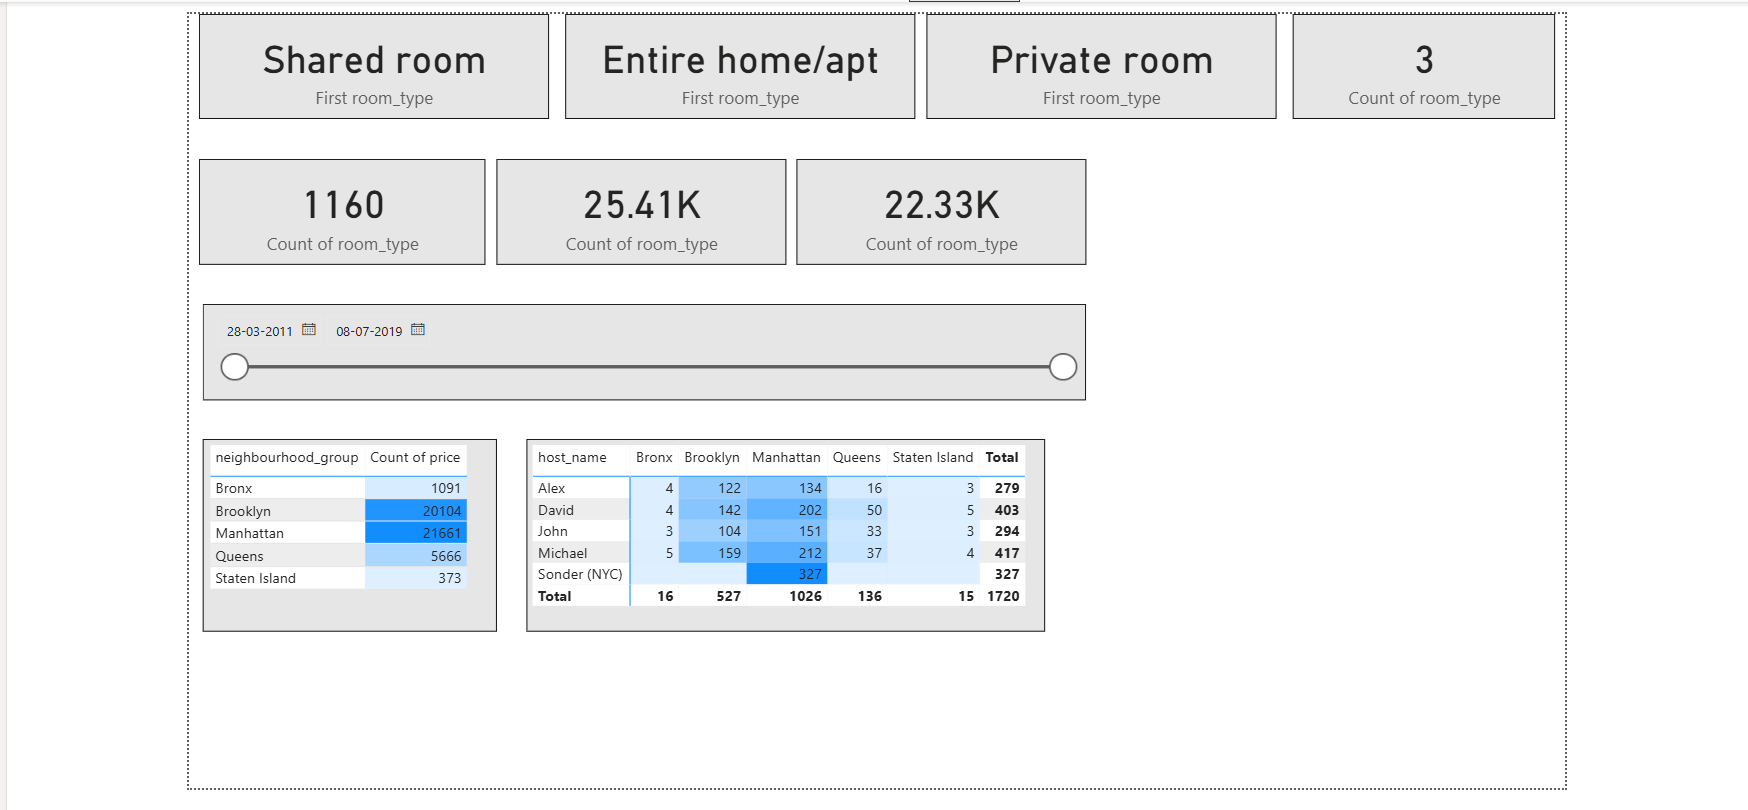

This screenshot's page, from the dashboard's own definition file:
{"tool":"powerbi","page":{"name":"Analysis","canvas":[1280,720],"ordinal":1},"visuals":[{"type":"card","fields":{"Values":["Min(AB_NYC_2019.room_type)"]},"box":[686.1,0,325.2,97.4],"z":0},{"type":"card","fields":{"Values":["Min(AB_NYC_2019.room_type)"]},"box":[9.6,0,325.2,97.4],"z":1},{"type":"card","fields":{"Values":["Min(AB_NYC_2019.room_type)"]},"box":[349.9,0,325.2,97.4],"z":2},{"type":"card","fields":{"Values":["Count(AB_NYC_2019.room_type)"]},"box":[1026.4,0,244.3,97.4],"z":3},{"type":"card","fields":{"Values":["CountNonNull(AB_NYC_2019.room_type)"]},"box":[564.9,135.3,269.3,98.1],"z":5},{"type":"card","fields":{"Values":["CountNonNull(AB_NYC_2019.room_type)"]},"box":[285.9,135.3,269.3,98.1],"z":6},{"type":"card","fields":{"Values":["CountNonNull(AB_NYC_2019.room_type)"]},"box":[9.7,135.3,266.6,98.1],"z":7},{"type":"slicer","fields":{"Values":["AB_NYC_2019.last_review"]},"box":[12.4,269.3,821.8,89.8],"z":8},{"type":"tableEx","fields":{"Values":["AB_NYC_2019.neighbourhood_group","CountNonNull(AB_NYC_2019.price)"]},"box":[12.4,395,273.5,179.5],"z":9},{"type":"pivotTable","fields":{"Columns":["AB_NYC_2019.neighbourhood_group"],"Rows":["AB_NYC_2019.host_name"],"Values":["CountNonNull(AB_NYC_2019.calculated_host_listings_count)"]},"box":[313.5,395,482,179.5],"z":10}]}

Visuals, with their boxes in screenshot pixels (x1, y1, x2, y2):
card - Min(AB_NYC_2019.room_type): (left=917, top=9, right=1265, bottom=113)
card - Min(AB_NYC_2019.room_type): (left=192, top=9, right=540, bottom=113)
card - Min(AB_NYC_2019.room_type): (left=557, top=9, right=905, bottom=113)
card - Count(AB_NYC_2019.room_type): (left=1281, top=9, right=1542, bottom=113)
card - CountNonNull(AB_NYC_2019.room_type): (left=787, top=154, right=1075, bottom=259)
card - CountNonNull(AB_NYC_2019.room_type): (left=488, top=154, right=776, bottom=259)
card - CountNonNull(AB_NYC_2019.room_type): (left=192, top=154, right=478, bottom=259)
slicer - AB_NYC_2019.last_review: (left=195, top=297, right=1075, bottom=394)
tableEx - AB_NYC_2019.neighbourhood_group x CountNonNull(AB_NYC_2019.price): (left=195, top=432, right=488, bottom=624)
pivotTable - AB_NYC_2019.neighbourhood_group x AB_NYC_2019.host_name: (left=518, top=432, right=1034, bottom=624)
